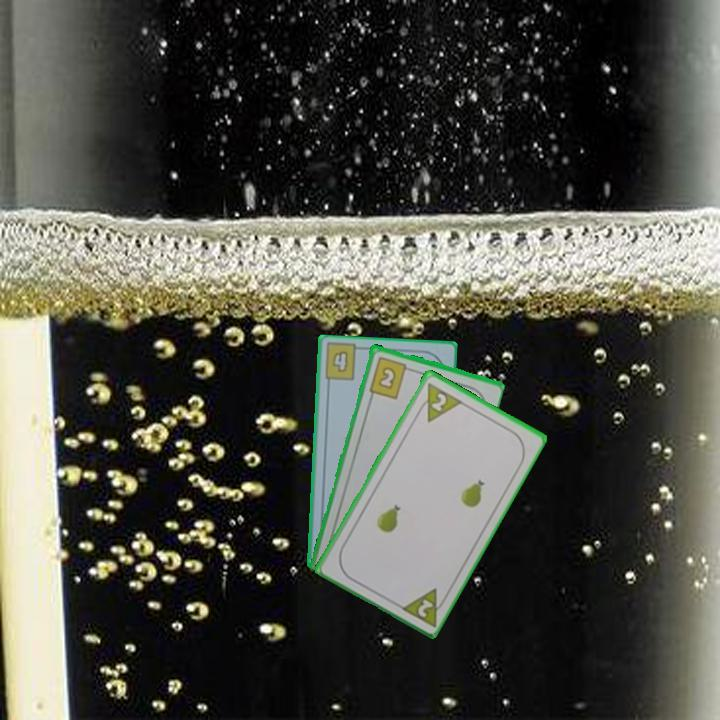2b: (365, 353, 415, 401)
2p: (396, 584, 450, 629), (412, 379, 464, 425)
4b: (328, 347, 351, 375)
